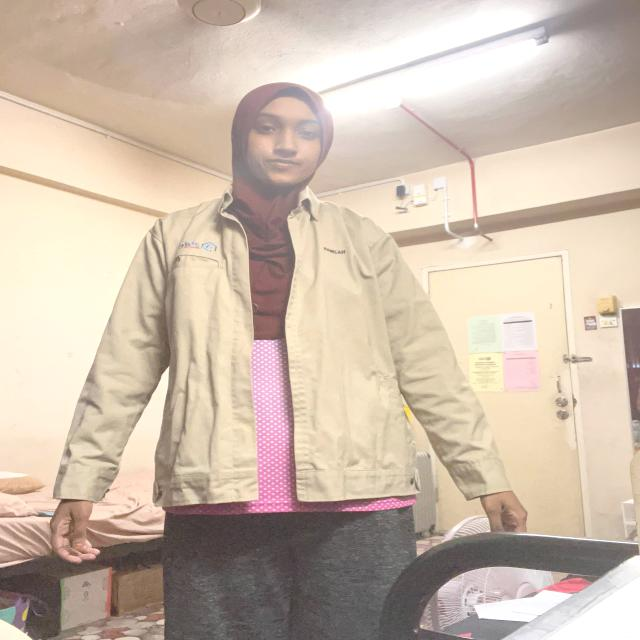person_with_labcoat: (51, 83, 526, 640)
